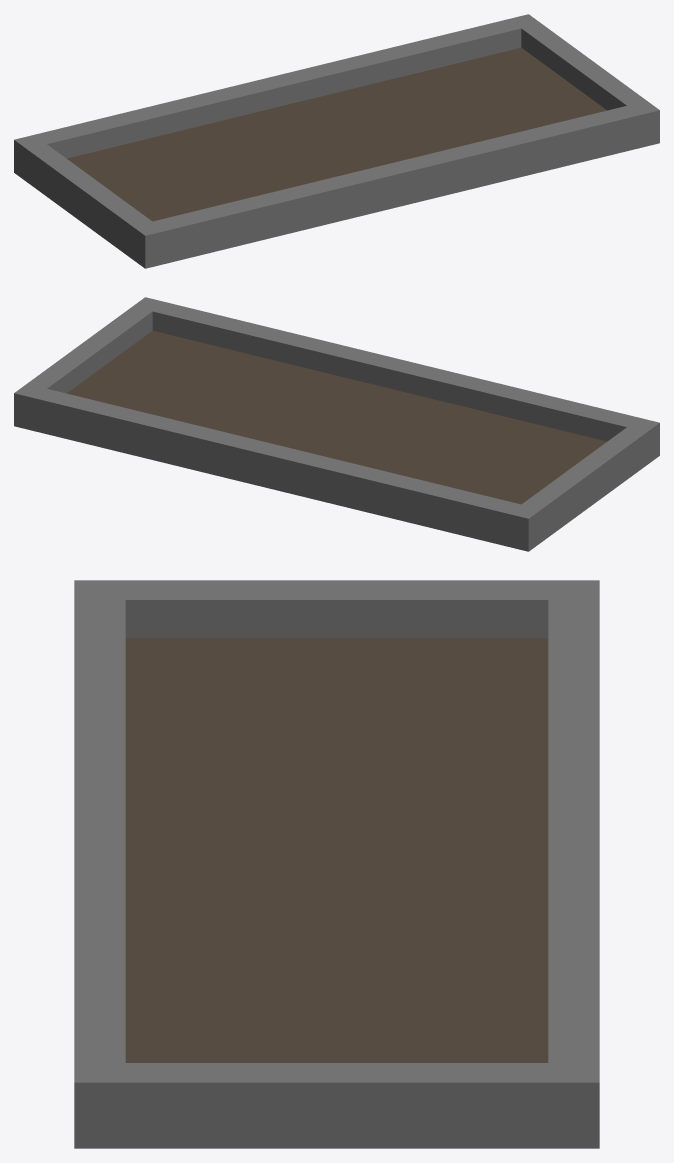
File: flowerbed_2.fbx
3 renders of one model, top to bottom at view 1: azimuth 30°, elevation 25°; view 2: azimuth 150°, elevation 25°; view 3: azimuth 270°, elevation 25°, orthographic. The views are drawn at different scales.
Parts seen in each view (by area): view 1: flowerbed_2; view 2: flowerbed_2; view 3: flowerbed_2.
Boxes of the visible parts, x1,y1,x2,y2 form: flowerbed_2: (14, 14, 659, 268); flowerbed_2: (14, 297, 659, 551); flowerbed_2: (74, 580, 599, 1148).
Bounding box in the file's own units: 2.61 × 1.15 × 0.1599.
